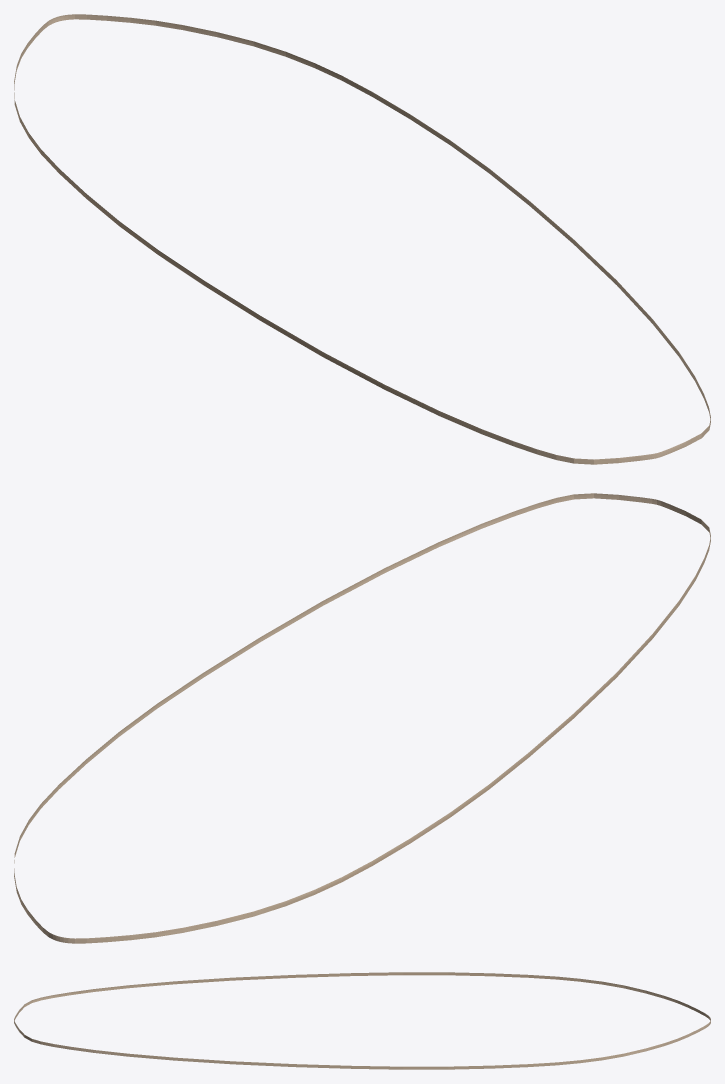
Rendered from surfboard04-side.glb.
The picture shows the model from 3 angles, top to bottom: view 1: azimuth 30°, elevation 25°; view 2: azimuth 150°, elevation 25°; view 3: azimuth 270°, elevation 25°; orthographic projection. The views are drawn at different scales.
Parts seen in each view (by area): view 1: surfboard04-side; view 2: surfboard04-side; view 3: surfboard04-side.
Part boxes in pixels (x1,y1,x2,y2): surfboard04-side: (14,14,710,464); surfboard04-side: (14,493,710,943); surfboard04-side: (14,972,710,1069).
Bounding box in the file's own units: 0.3235 × 0.00479 × 1.01.
1 material, 1 textured.
